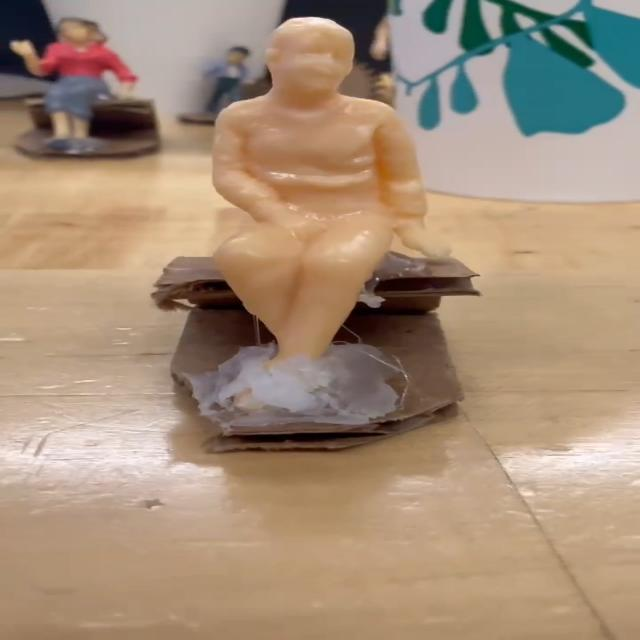Unauthorized: (193, 5, 462, 382)
